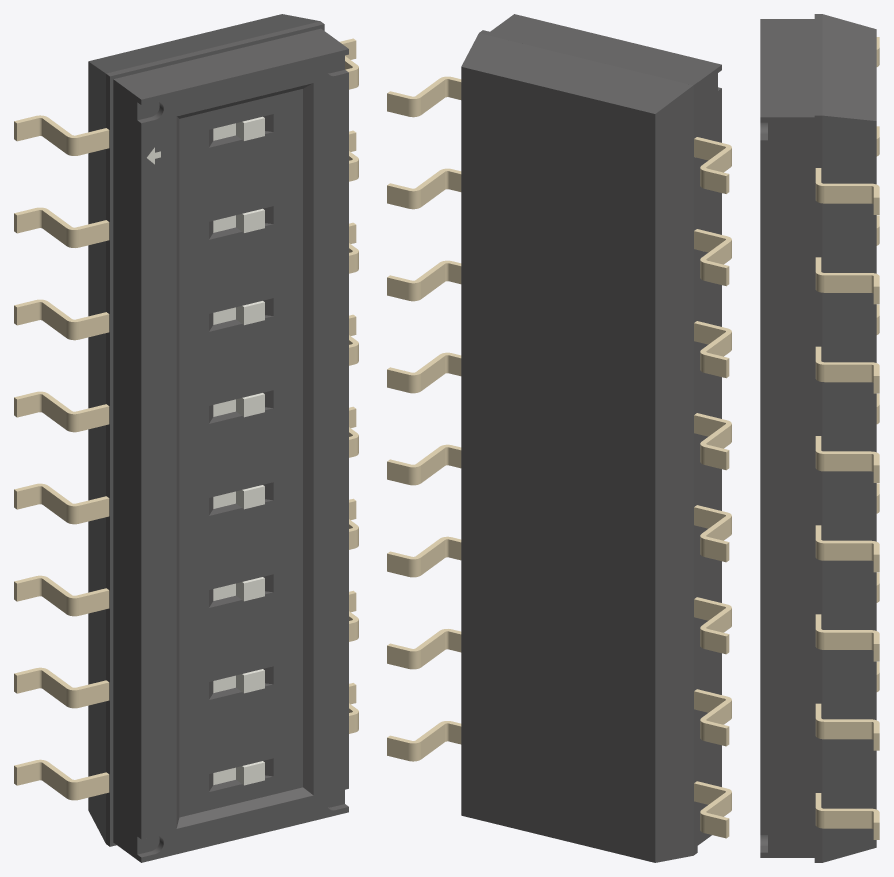
The model's file is SW_DIP_SPSTx08_Slide_Omron_A6S-810x_W8.9mm_P2.54mm.glb.
The picture shows the model from 3 angles, left to right: view 1: azimuth 30°, elevation 25°; view 2: azimuth 150°, elevation 25°; view 3: azimuth 270°, elevation 25°; orthographic projection. The views are drawn at different scales.
Parts seen in each view (by area): view 1: Shape_IndexedFaceSet.251, Shape_IndexedFaceSet.152, Shape_IndexedFaceSet.159, Shape_IndexedFaceSet.005, Shape_IndexedFaceSet.249, Shape_IndexedFaceSet.150, Shape_IndexedFaceSet.002, Shape_IndexedFaceSet.117, Shape_IndexedFaceSet.248, Shape_IndexedFaceSet.041, Shape_IndexedFaceSet.247, Shape_IndexedFaceSet.006 (+1 smaller); view 2: Shape_IndexedFaceSet.001, Shape_IndexedFaceSet.005, Shape_IndexedFaceSet.159, Shape_IndexedFaceSet.002, Shape_IndexedFaceSet.150, Shape_IndexedFaceSet.041, Shape_IndexedFaceSet.006; view 3: Shape_IndexedFaceSet.044, Shape_IndexedFaceSet, Shape_IndexedFaceSet.150, Shape_IndexedFaceSet.002, Shape_IndexedFaceSet.003, Shape_IndexedFaceSet.006, Shape_IndexedFaceSet.085, Shape_IndexedFaceSet.049, Shape_IndexedFaceSet.058, Shape_IndexedFaceSet.067, Shape_IndexedFaceSet.076, Shape_IndexedFaceSet.094 (+10 smaller).
Part boxes in pixels (box(x1,y1,x2,y2)): Shape_IndexedFaceSet.251: box(179, 89, 302, 817); Shape_IndexedFaceSet.152: box(141, 49, 348, 862); Shape_IndexedFaceSet.159: box(113, 79, 141, 862); Shape_IndexedFaceSet.005: box(88, 61, 105, 843); Shape_IndexedFaceSet.249: box(303, 83, 313, 794); Shape_IndexedFaceSet.150: box(113, 28, 348, 99); Shape_IndexedFaceSet.002: box(88, 14, 319, 73); Shape_IndexedFaceSet.117: box(110, 77, 113, 846); Shape_IndexedFaceSet.248: box(176, 117, 179, 827); Shape_IndexedFaceSet.041: box(106, 74, 109, 846); Shape_IndexedFaceSet.247: box(176, 787, 312, 828); Shape_IndexedFaceSet.006: box(106, 21, 323, 76); Shape_IndexedFaceSet.001: box(461, 67, 655, 862); Shape_IndexedFaceSet.005: box(655, 85, 693, 862); Shape_IndexedFaceSet.159: box(697, 65, 721, 845); Shape_IndexedFaceSet.002: box(461, 33, 692, 113); Shape_IndexedFaceSet.150: box(490, 14, 721, 82); Shape_IndexedFaceSet.041: box(693, 82, 697, 855); Shape_IndexedFaceSet.006: box(479, 30, 696, 85); Shape_IndexedFaceSet.044: box(760, 117, 814, 857); Shape_IndexedFaceSet: box(822, 115, 876, 862); Shape_IndexedFaceSet.150: box(760, 19, 814, 117); Shape_IndexedFaceSet.002: box(822, 14, 876, 120); Shape_IndexedFaceSet.003: box(814, 115, 822, 862); Shape_IndexedFaceSet.006: box(814, 14, 822, 115); Shape_IndexedFaceSet.085: box(824, 364, 870, 382); Shape_IndexedFaceSet.049: box(824, 632, 870, 649); Shape_IndexedFaceSet.058: box(824, 543, 870, 560); Shape_IndexedFaceSet.067: box(824, 454, 870, 471); Shape_IndexedFaceSet.076: box(824, 275, 870, 292); Shape_IndexedFaceSet.094: box(824, 811, 870, 828).
Size of the model in its own units: 3.86 by 8.37 by 1.21.
